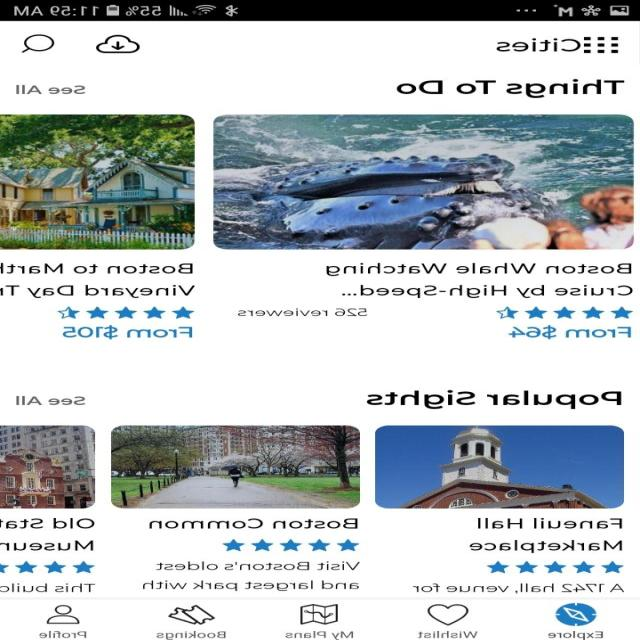Icon: (487, 560, 625, 573), (496, 306, 634, 319), (58, 306, 196, 318), (224, 539, 360, 551), (1, 560, 96, 573), (556, 602, 598, 626), (169, 604, 216, 624), (428, 603, 470, 625), (96, 34, 142, 54), (300, 604, 338, 624), (47, 604, 81, 624), (22, 34, 56, 53), (584, 36, 619, 53)
Image: (215, 114, 634, 250), (1, 114, 196, 250), (111, 425, 361, 508), (375, 426, 624, 508), (1, 425, 96, 508)
Text: (326, 263, 633, 298), (1, 263, 196, 298), (143, 561, 360, 591), (469, 517, 623, 553), (366, 389, 622, 409), (396, 79, 624, 98), (1, 517, 96, 550), (412, 582, 625, 593), (150, 518, 358, 528), (64, 325, 194, 339), (508, 325, 632, 339), (496, 38, 582, 52), (239, 308, 368, 316), (1, 582, 97, 592), (16, 395, 86, 405), (16, 84, 86, 94), (157, 630, 227, 639), (285, 630, 354, 639), (548, 630, 604, 639), (418, 630, 480, 638), (40, 630, 88, 638)
